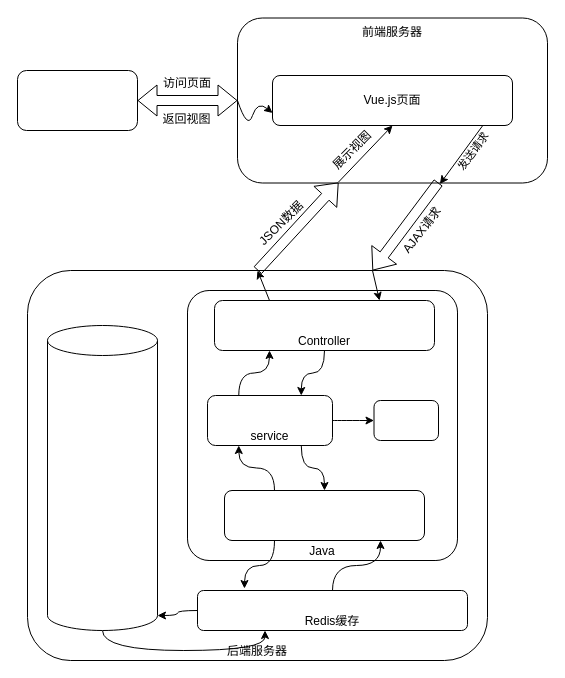
Image size: 565x678. Some labels were removed from this diagram. Here are the shapes that lost their labels. From the top down, the centre of each, then its label:
(77,100): 用户 (客户端)
(405,420): Log System
(102,477): MySQL
(324,515): DAO层
